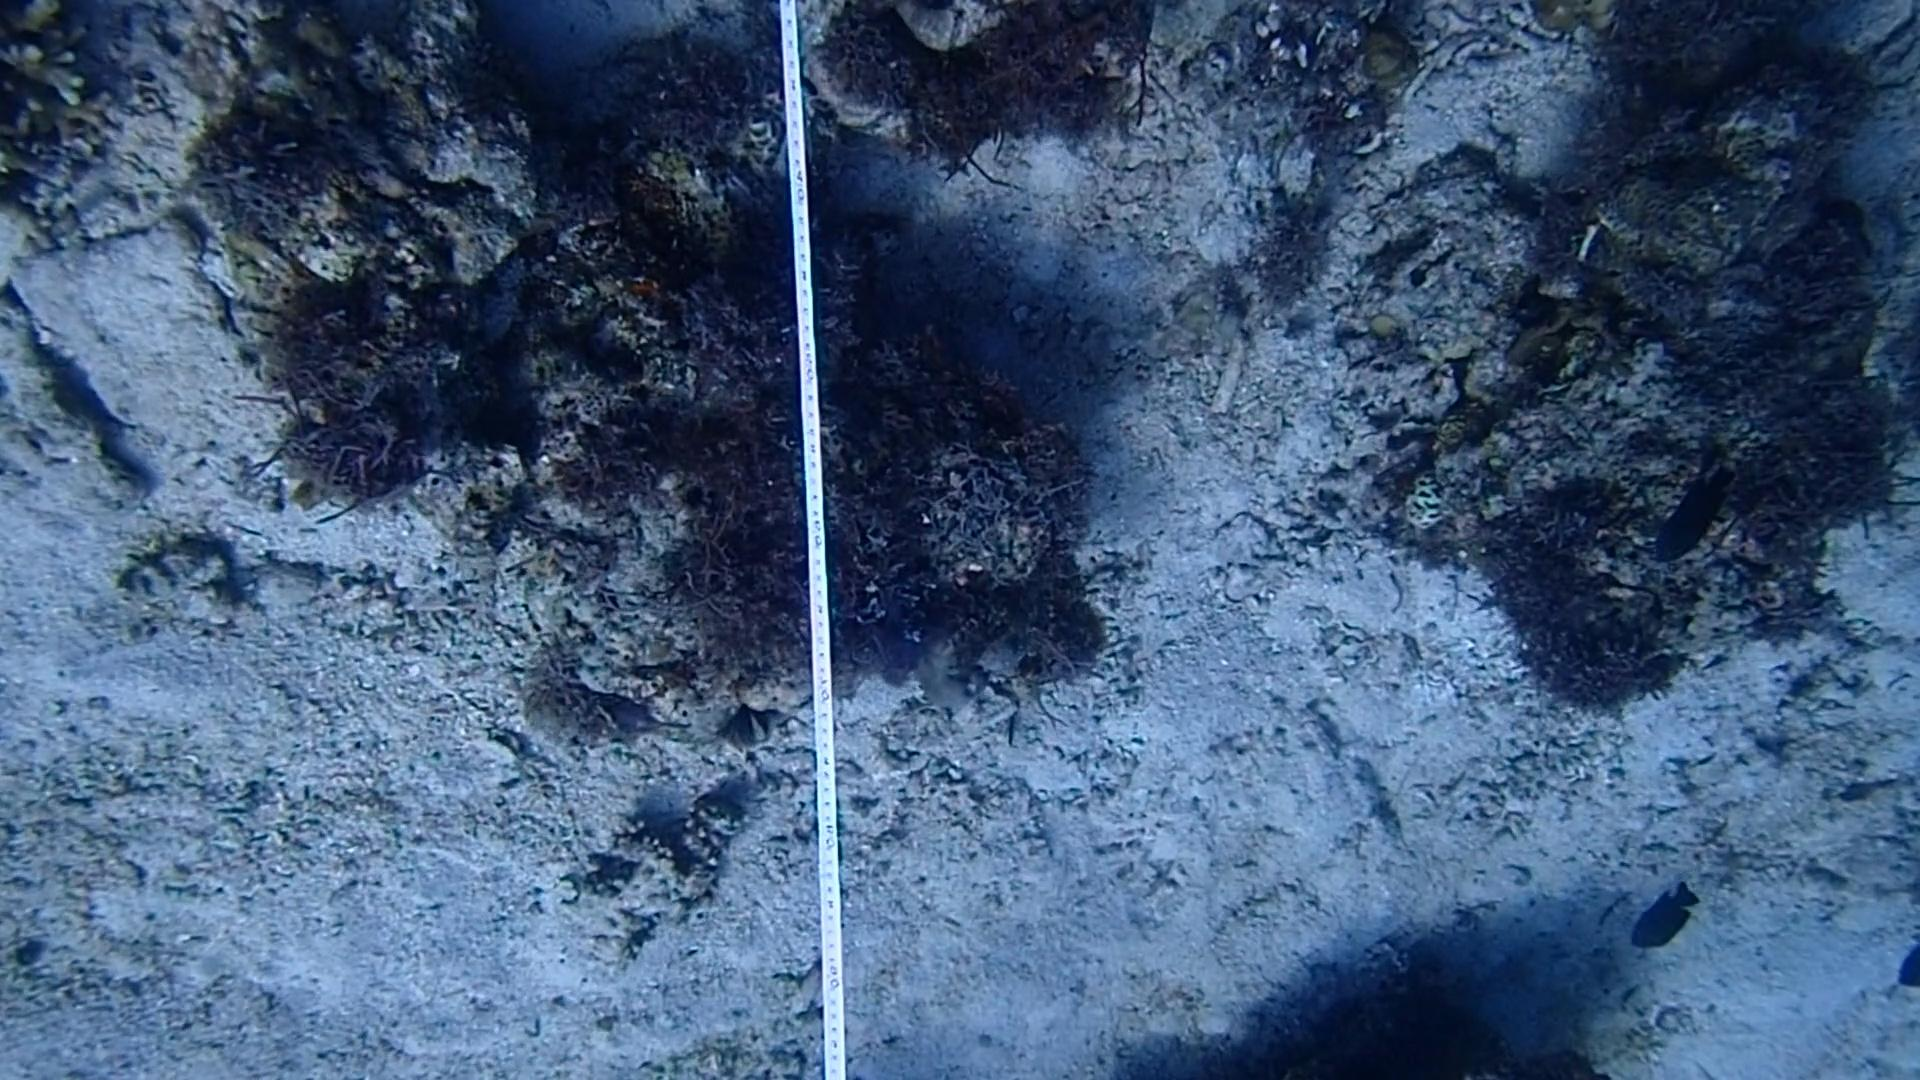Dark Fish: (1640, 460, 1735, 576), (1623, 869, 1708, 960)
